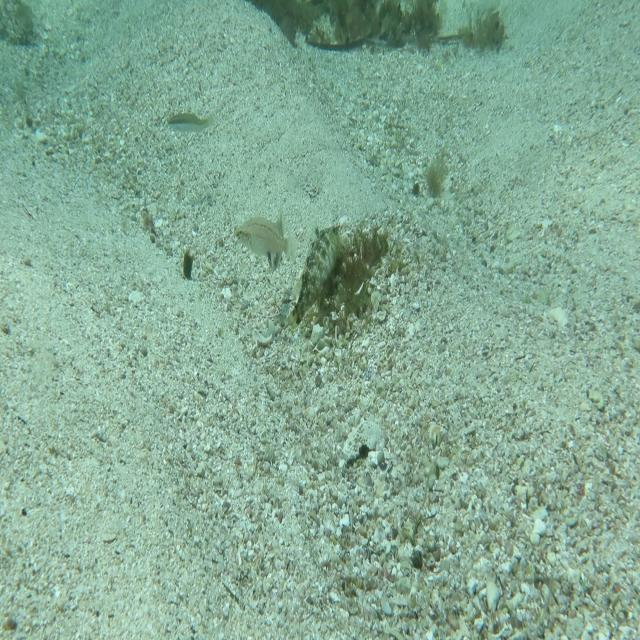Coris_julis_female: (166, 107, 216, 143)
ROLL: (282, 219, 347, 330)
female: (263, 205, 288, 275)
nest: (304, 222, 401, 338)
other_fish: (232, 211, 301, 268)
